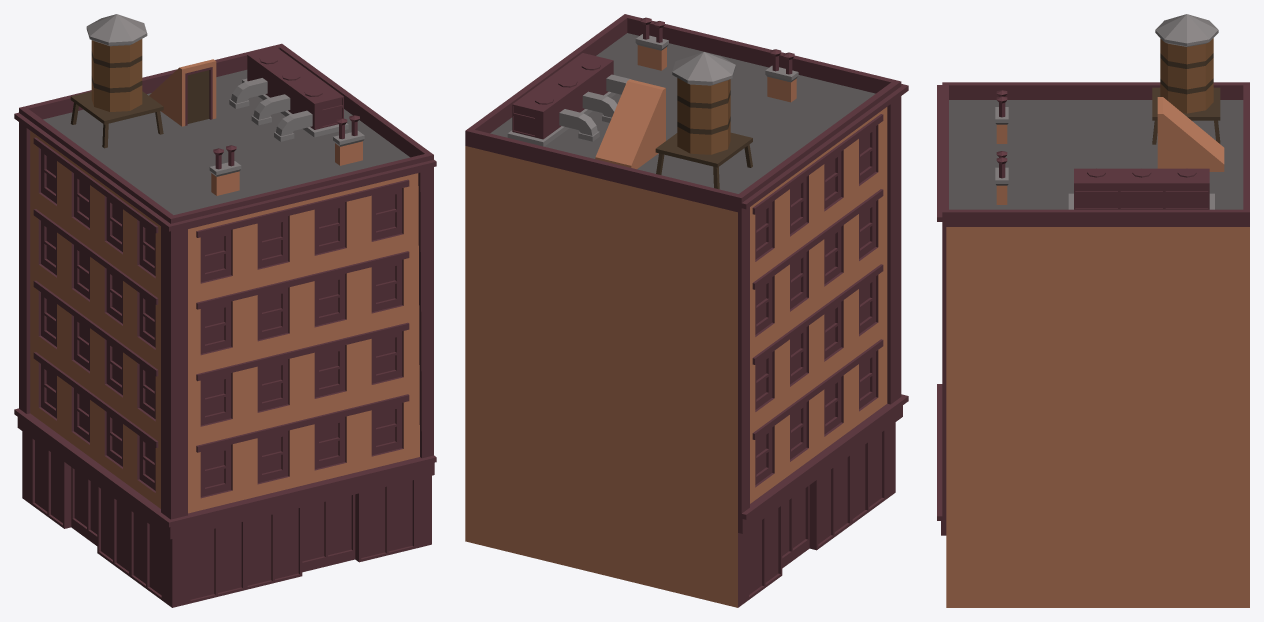
Rendered from building-block-4floor-corner.fbx.
The picture shows the model from 3 angles, left to right: view 1: azimuth 30°, elevation 25°; view 2: azimuth 150°, elevation 25°; view 3: azimuth 270°, elevation 25°; orthographic projection. The views are drawn at different scales.
Visible parts, largest first — view 1: building-block-4floor-corner; view 2: building-block-4floor-corner; view 3: building-block-4floor-corner.
Boxes of the visible parts, bbox=[...] form: building-block-4floor-corner: bbox=[14, 14, 436, 607]; building-block-4floor-corner: bbox=[465, 14, 908, 607]; building-block-4floor-corner: bbox=[937, 14, 1249, 607].
Bounding box in the file's own units: 11.75 × 20.61 × 11.75.
